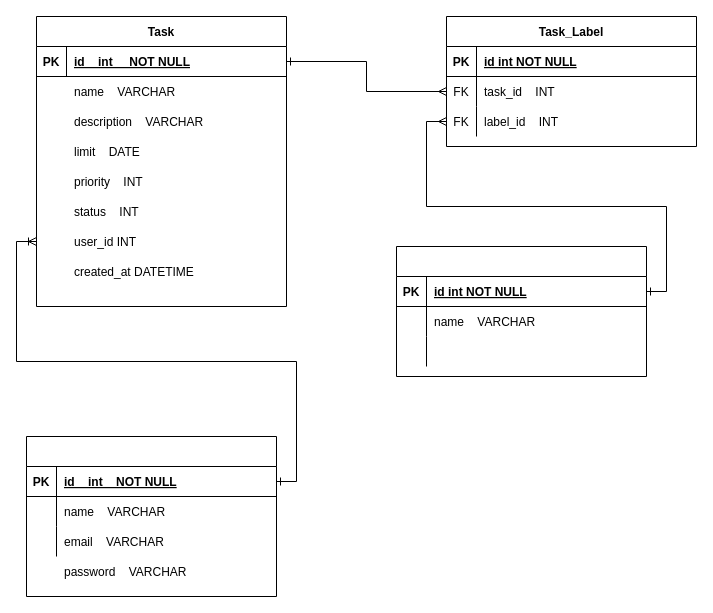
Some shapes in this 713 by 613 pixel diagram are drawn without their labels. Here are the shapes that lost their labels. From the top down, the box of each, then its label:
(396, 246, 646, 376): Label
(26, 436, 276, 596): User
